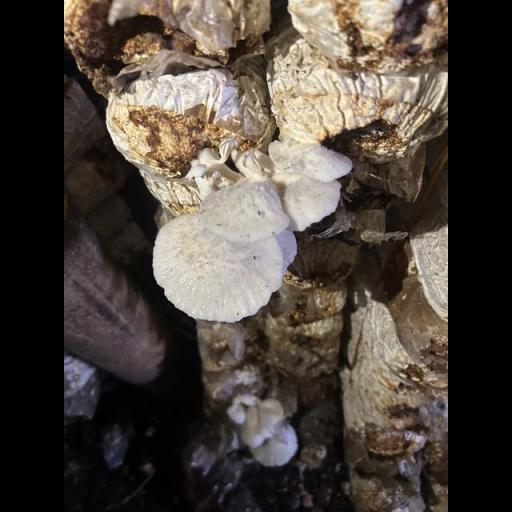White Oyster Mushroom: (140, 131, 354, 326)
